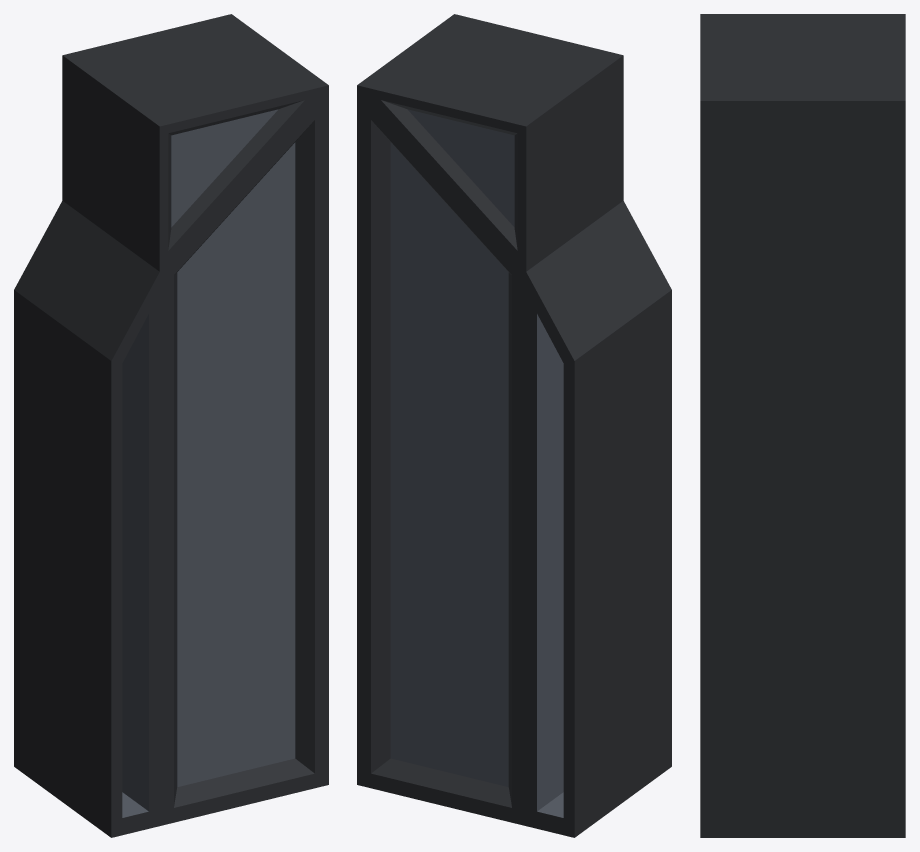
Rendered from SM_Pillar_for_the_conveyor-1m.glb.
The picture shows the model from 3 angles, left to right: view 1: azimuth 30°, elevation 25°; view 2: azimuth 150°, elevation 25°; view 3: azimuth 270°, elevation 25°; orthographic projection. The views are drawn at different scales.
Visible parts, largest first — view 1: SM_Pillar_for_the_conveyor-1m; view 2: SM_Pillar_for_the_conveyor-1m; view 3: SM_Pillar_for_the_conveyor-1m.
Part boxes in pixels (<box>): SM_Pillar_for_the_conveyor-1m: <box>14,14,328,837</box>; SM_Pillar_for_the_conveyor-1m: <box>357,14,671,837</box>; SM_Pillar_for_the_conveyor-1m: <box>700,14,905,837</box>.
Bounding box in the file's own units: 0.3254 × 1 × 0.2523.
Materials: 1 (1 with a texture image).
